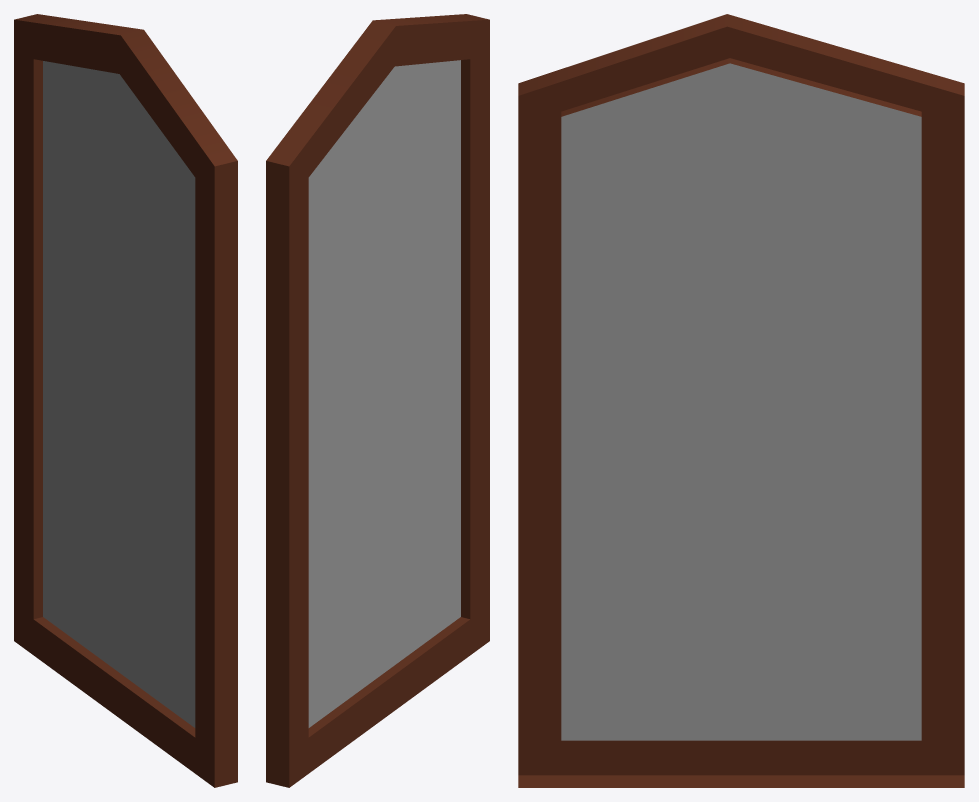
File: SM_Window.fbx
The picture shows the model from 3 angles, left to right: view 1: azimuth 30°, elevation 25°; view 2: azimuth 150°, elevation 25°; view 3: azimuth 270°, elevation 25°; orthographic projection. The views are drawn at different scales.
Visible parts, largest first — view 1: polySurface51, polySurface52; view 2: polySurface51, polySurface52; view 3: polySurface51, polySurface52.
Part boxes in pixels (left/top/right/bottom): polySurface51: left=43, top=61, right=195, bottom=727; polySurface52: left=14, top=14, right=237, bottom=787; polySurface51: left=308, top=60, right=460, bottom=727; polySurface52: left=266, top=14, right=489, bottom=787; polySurface51: left=561, top=63, right=921, bottom=740; polySurface52: left=518, top=14, right=964, bottom=787.
Size of the model in its own units: 2.32 by 65.35 by 34.74.
